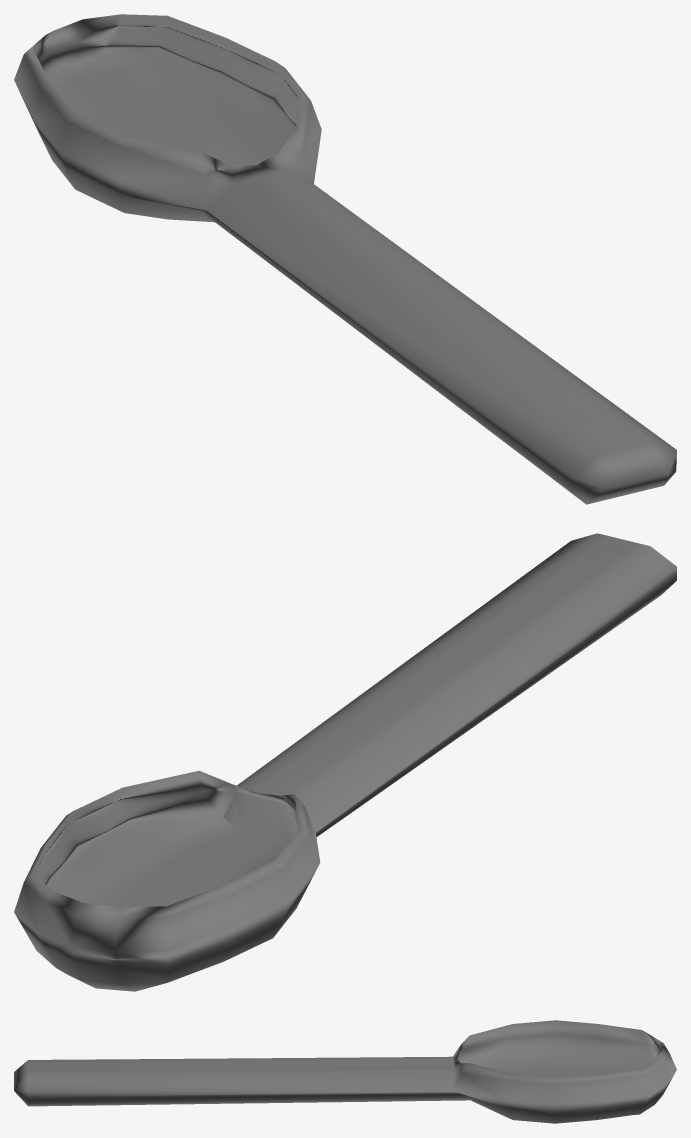
File: spoon.dae
3 renders of one model, top to bottom at view 1: azimuth 30°, elevation 25°; view 2: azimuth 150°, elevation 25°; view 3: azimuth 270°, elevation 25°, orthographic. The views are drawn at different scales.
Parts seen in each view (by area): view 1: Cube; view 2: Cube; view 3: Cube.
Boxes of the visible parts, bbox=[...] form: Cube: bbox=[14, 14, 676, 504]; Cube: bbox=[14, 533, 676, 991]; Cube: bbox=[14, 1020, 676, 1123].
Size of the model in its own units: 0.3267 by 1.37 by 0.1275.
1 material, 1 textured.
